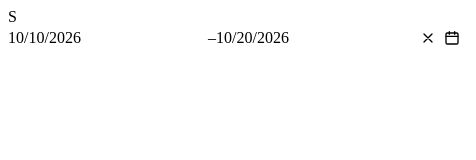
Test case: DateRangePicker › clears with the field button and with the footer action
The image size is (476, 160).
Click the button named "Clear": x=428, y=38 [416,26,440,50]
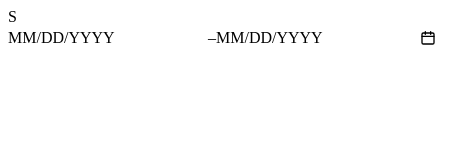
Now the field named "Start date" is empty, box [8,29,208,47]
